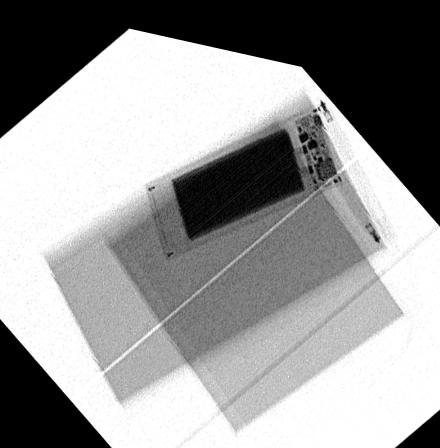Powerbank: (144, 86, 347, 254)
